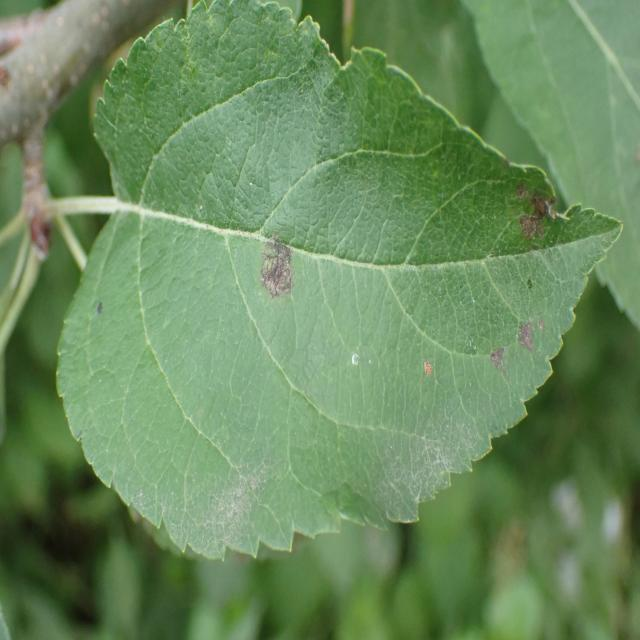scab: (175, 158, 609, 570)
